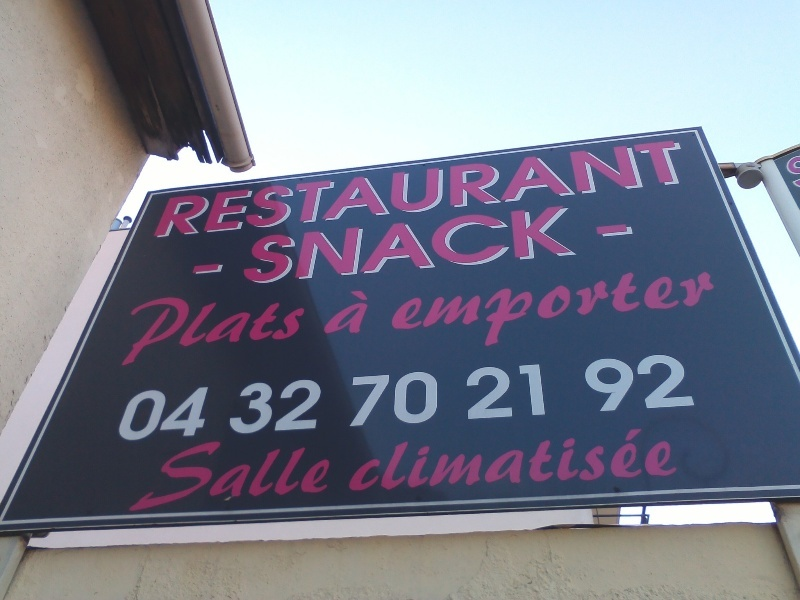text: (177, 139, 192, 240), (193, 139, 208, 240), (209, 139, 224, 240), (225, 139, 240, 240), (241, 139, 256, 240), (257, 139, 272, 240), (273, 139, 288, 240), (289, 139, 304, 240), (305, 139, 320, 240), (321, 139, 336, 240), (337, 139, 352, 240), (353, 139, 368, 240), (369, 139, 384, 240), (385, 139, 400, 240), (401, 139, 416, 240), (417, 139, 432, 240), (433, 139, 448, 240), (449, 139, 464, 240), (465, 139, 480, 240), (481, 139, 496, 240), (497, 139, 512, 240), (513, 139, 528, 240), (529, 139, 544, 240), (545, 139, 560, 240), (561, 139, 576, 240), (577, 139, 592, 240), (593, 139, 608, 240), (609, 139, 624, 240), (625, 139, 640, 240), (641, 139, 656, 240), (657, 139, 672, 240), (673, 139, 688, 240), (401, 262, 416, 357), (417, 262, 432, 357), (433, 262, 448, 357), (449, 262, 464, 357), (465, 262, 480, 357), (481, 262, 496, 357), (497, 262, 512, 357), (513, 262, 528, 357), (529, 262, 544, 357), (545, 262, 560, 357), (561, 262, 576, 357), (577, 262, 592, 357), (593, 262, 608, 357), (609, 262, 624, 357), (625, 262, 640, 357), (641, 262, 656, 357), (657, 262, 672, 357), (673, 262, 688, 357), (689, 262, 704, 357), (705, 262, 720, 357), (721, 262, 736, 357), (145, 283, 160, 367), (161, 283, 176, 367), (177, 283, 192, 367), (193, 283, 208, 367), (209, 283, 224, 367), (225, 283, 240, 367), (241, 283, 256, 367), (257, 283, 272, 367), (273, 283, 288, 367), (289, 283, 304, 367), (257, 205, 272, 288), (273, 205, 288, 288), (289, 205, 304, 288), (305, 205, 320, 288), (321, 205, 336, 288), (337, 205, 352, 288), (353, 205, 368, 288), (369, 205, 384, 288), (385, 205, 400, 288), (401, 205, 416, 288), (417, 205, 432, 288), (433, 205, 448, 288), (449, 205, 464, 288), (465, 205, 480, 288), (481, 205, 496, 288), (497, 205, 512, 288), (513, 205, 528, 288), (529, 205, 544, 288), (545, 205, 560, 288), (561, 205, 576, 288), (161, 431, 176, 513), (177, 431, 192, 513), (193, 431, 208, 513), (209, 431, 224, 513), (225, 431, 240, 513), (241, 431, 256, 513), (257, 431, 272, 513), (273, 431, 288, 513), (289, 431, 304, 513), (305, 431, 320, 513), (321, 431, 336, 513), (369, 422, 384, 497), (385, 422, 400, 497), (401, 422, 416, 497), (417, 422, 432, 497), (433, 422, 448, 497), (449, 422, 464, 497), (465, 422, 480, 497), (481, 422, 496, 497), (497, 422, 512, 497), (513, 422, 528, 497), (529, 422, 544, 497), (545, 422, 560, 497), (561, 422, 576, 497), (577, 422, 592, 497), (593, 422, 608, 497), (609, 422, 624, 497), (625, 422, 640, 497), (641, 422, 656, 497), (657, 422, 672, 497), (165, 139, 176, 240), (689, 139, 700, 240), (131, 283, 144, 367), (577, 349, 592, 417), (593, 349, 608, 417), (609, 349, 624, 417), (625, 349, 640, 417), (641, 349, 656, 417), (657, 349, 672, 417), (673, 349, 688, 417), (465, 360, 480, 424), (481, 360, 496, 424), (497, 360, 512, 424), (513, 360, 528, 424), (529, 360, 544, 424), (241, 375, 256, 438), (257, 375, 272, 438), (273, 375, 288, 438), (289, 375, 304, 438), (305, 375, 320, 438), (145, 380, 160, 442), (161, 380, 176, 442), (177, 380, 192, 442), (193, 380, 208, 442), (353, 368, 368, 430), (369, 368, 384, 430), (385, 368, 400, 430), (401, 368, 416, 430), (417, 368, 432, 430), (689, 349, 702, 417), (131, 380, 144, 442), (673, 422, 683, 497), (337, 288, 352, 337), (353, 288, 368, 337), (785, 151, 799, 202), (359, 422, 368, 497), (393, 262, 400, 357), (342, 368, 352, 430), (153, 431, 160, 513), (305, 283, 311, 367), (321, 375, 329, 438), (209, 380, 217, 442), (369, 288, 379, 337), (193, 255, 208, 280), (209, 255, 224, 280), (433, 368, 439, 430), (609, 218, 624, 242), (594, 218, 608, 242), (252, 205, 256, 288), (577, 205, 581, 288), (235, 375, 240, 438), (460, 360, 464, 424), (545, 360, 549, 424), (779, 151, 784, 202), (331, 288, 336, 337), (625, 218, 635, 242), (186, 255, 192, 280), (574, 349, 576, 417), (337, 431, 338, 513), (225, 255, 226, 280)
